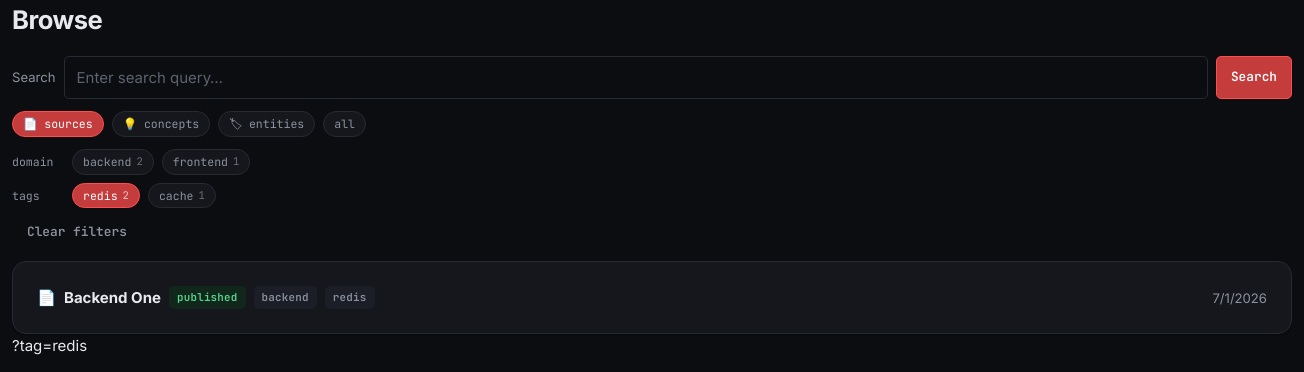
Test: ItemsPage (faceted browse) › clicking a second tag chip ANDs it into the URL
Click the button "cache 1": [182, 196] box [148, 183, 216, 208]
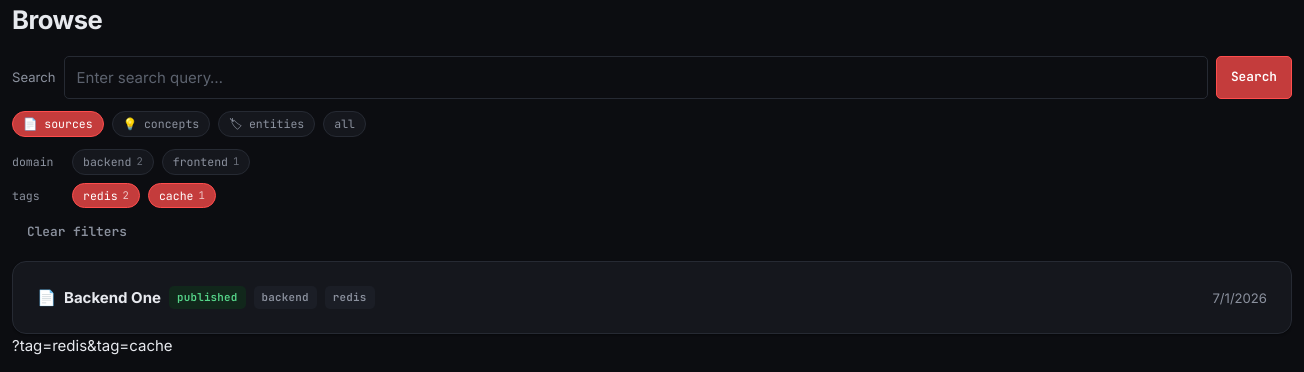
Expected: the text with test id "loc" shows "tag=redis", [12, 336, 173, 356]
Expected: the text with test id "loc" shows "tag=cache", [12, 336, 173, 356]
